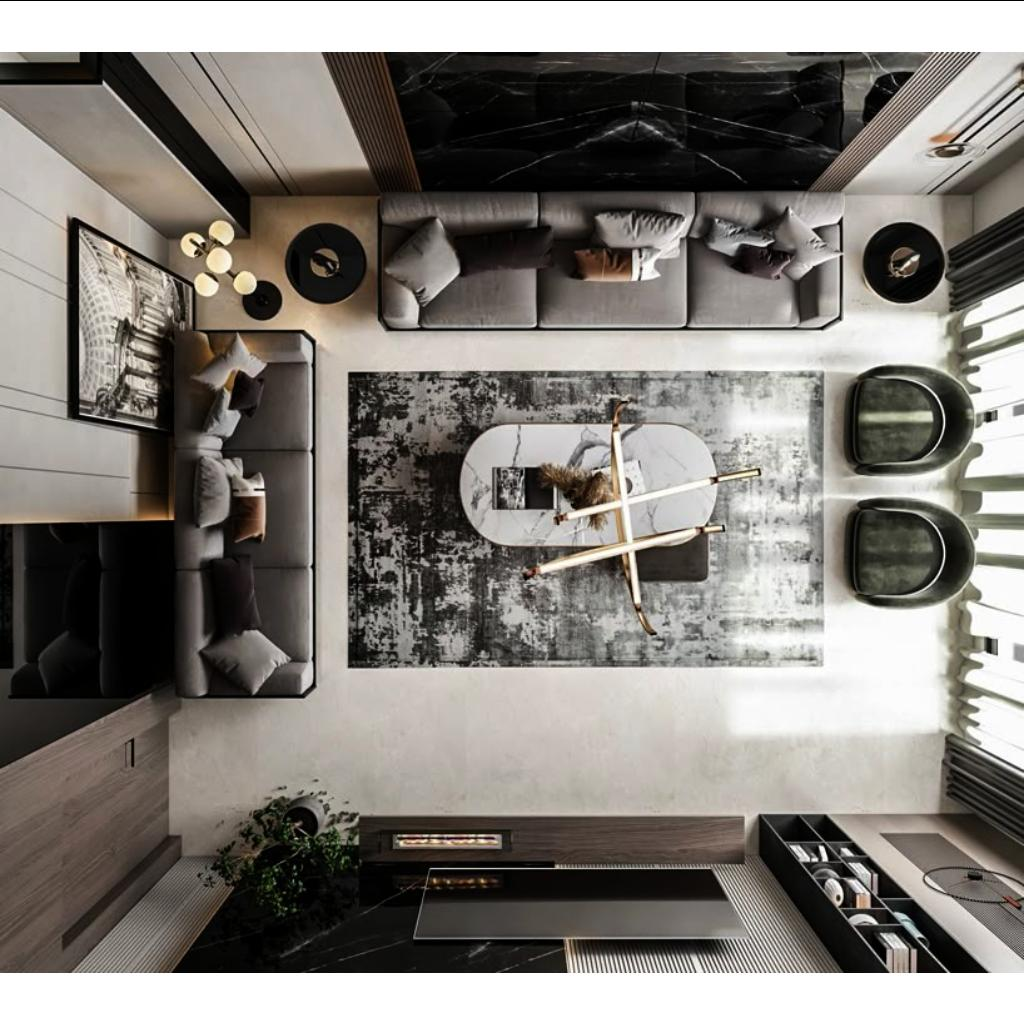TV stand: (362, 814, 750, 966)
bookshelf: (756, 818, 992, 968)
chair: (846, 499, 978, 611), (842, 364, 976, 474)
coffee table: (456, 423, 720, 563)
floor lamp: (232, 270, 278, 320)
floor plant: (274, 792, 334, 854)
rug: (346, 370, 826, 668)
side table: (286, 220, 368, 302), (863, 223, 945, 303)
sofa: (378, 194, 846, 334), (174, 328, 318, 702)
window: (1000, 522, 1024, 814), (1001, 212, 1023, 516)
